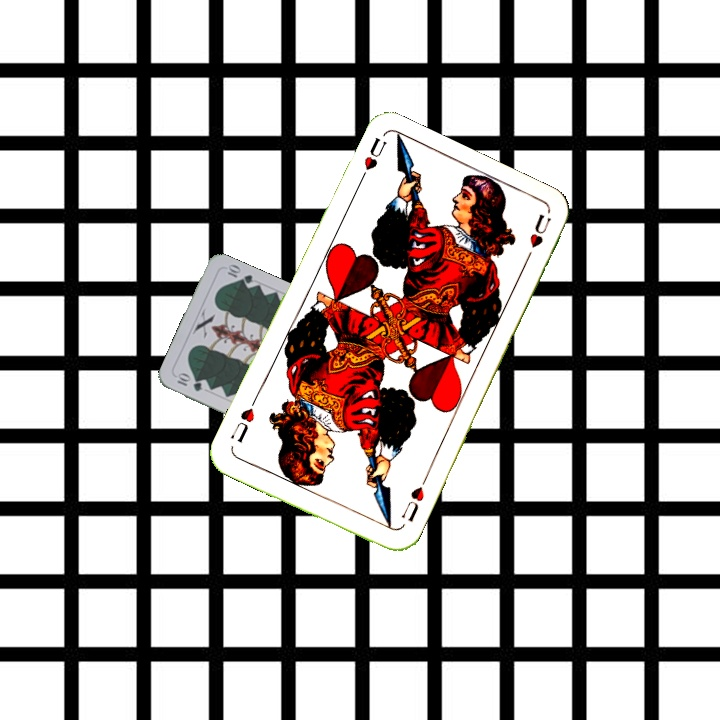G10: (173, 370, 205, 394)
HU: (353, 133, 389, 189), (397, 482, 427, 525)
